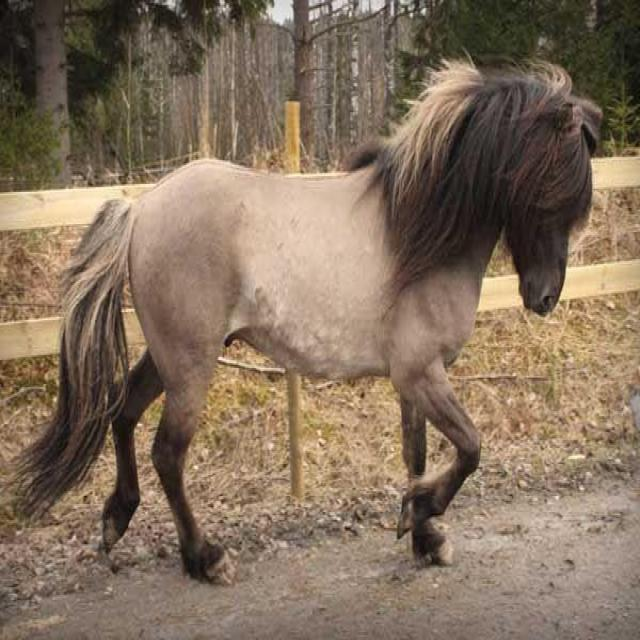horse: (4, 47, 603, 586)
